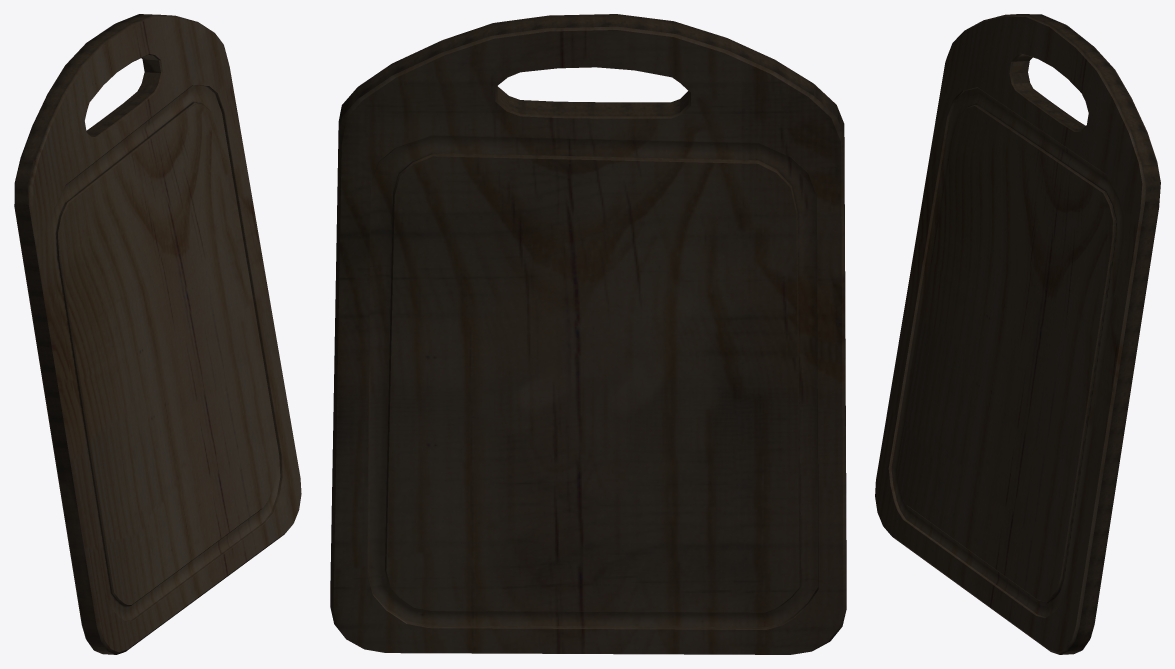
The model's file is Kitchen+board.fbx.
3 views of the same model, side by side, from view 1: azimuth 30°, elevation 25°; view 2: azimuth 150°, elevation 25°; view 3: azimuth 270°, elevation 25° (orthographic). The views are drawn at different scales.
Parts seen in each view (by area): view 1: Kitchen board; view 2: Kitchen board; view 3: Kitchen board.
Boxes of the visible parts, <box> form: Kitchen board: <box>14,14,301,654</box>; Kitchen board: <box>330,14,846,654</box>; Kitchen board: <box>875,14,1160,654</box>.
Bounding box in the file's own units: 214 × 321 × 154.
1 material, 1 textured.
